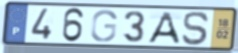3: (122, 10, 148, 44)
4: (30, 7, 54, 42)
6: (61, 6, 85, 44)
A: (146, 10, 182, 45)
G: (89, 9, 119, 43)
S: (180, 10, 211, 47)
